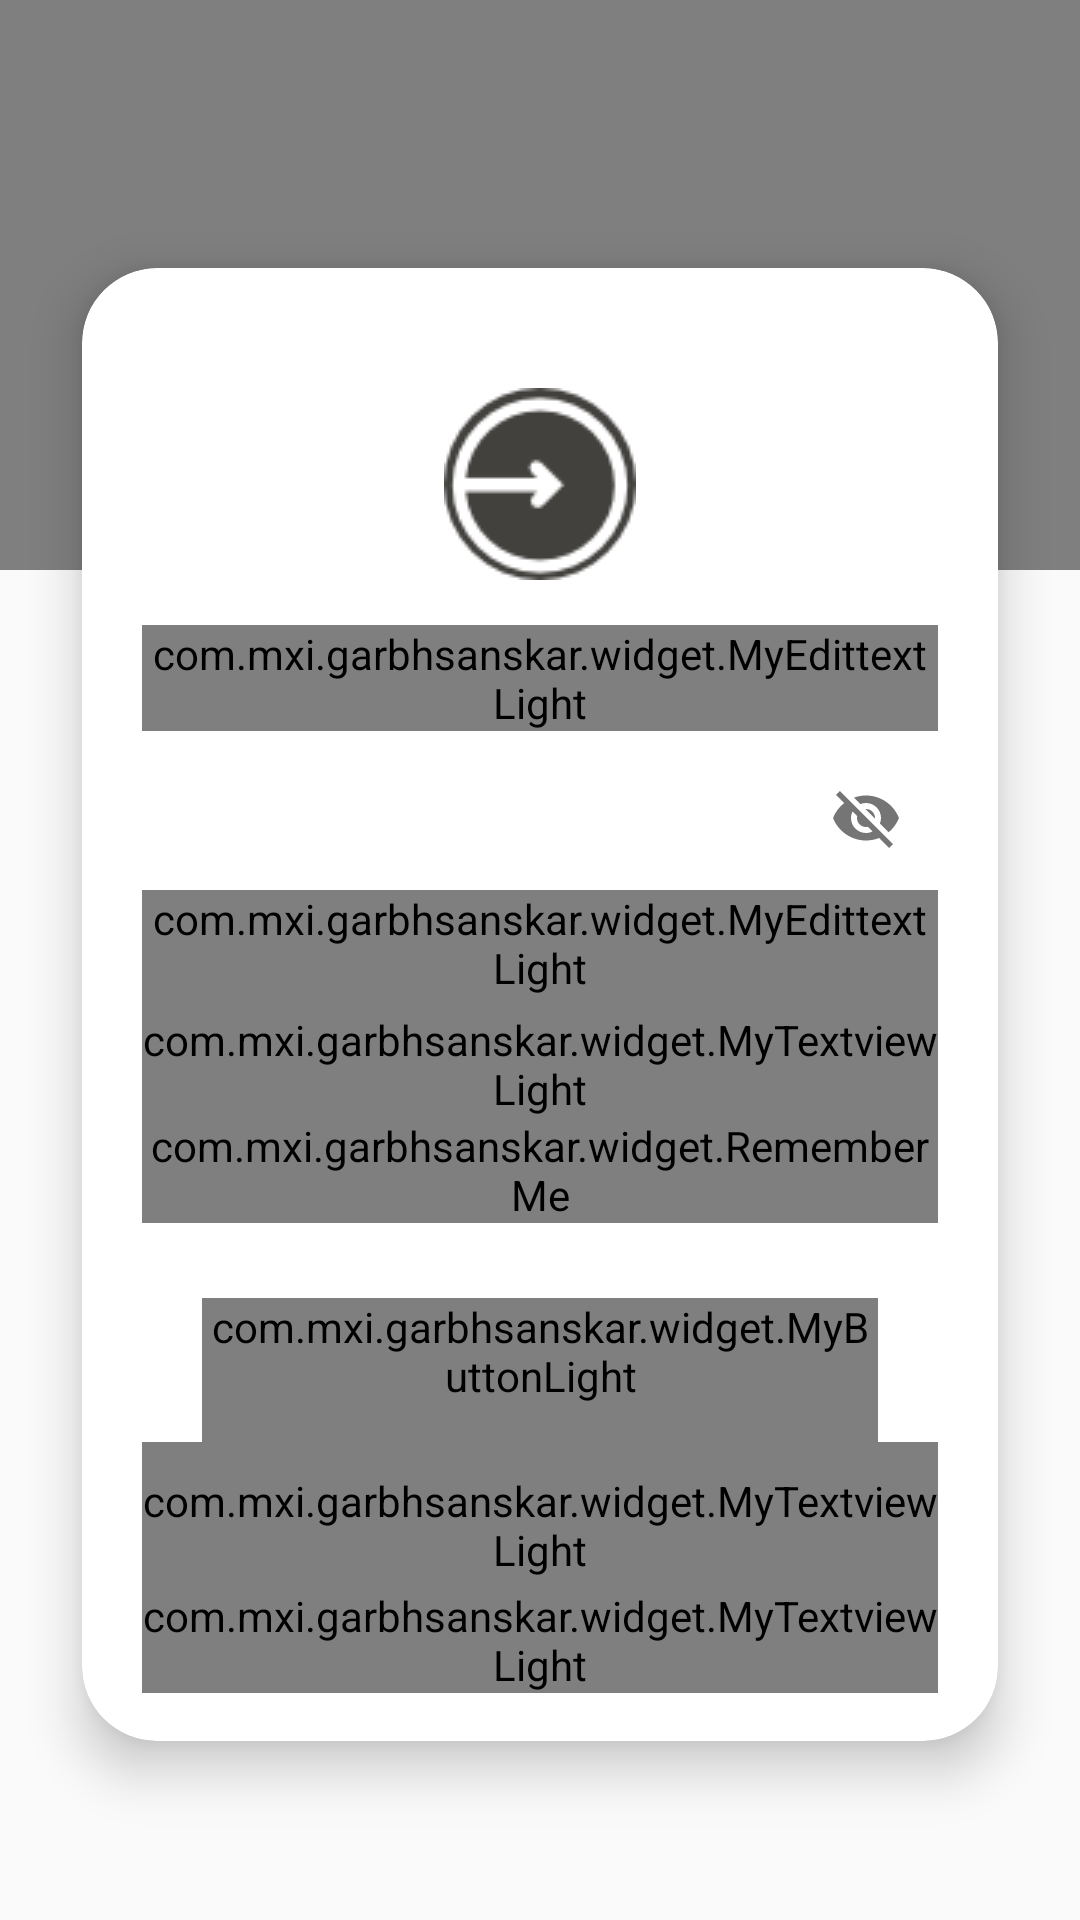

Icons on this 1080 × 1920 Android screen, each with the point to tap as (x=x, y=y):
log: (x=540, y=484)
